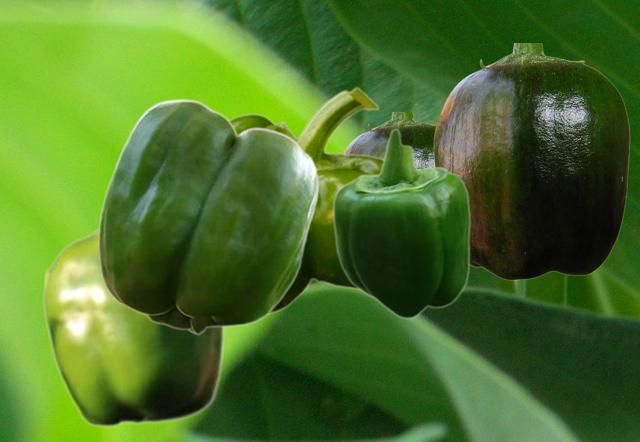bell_pepper: (97, 98, 318, 334), (433, 43, 629, 279), (42, 226, 225, 427), (229, 87, 382, 314), (331, 127, 470, 319), (344, 112, 435, 167)
